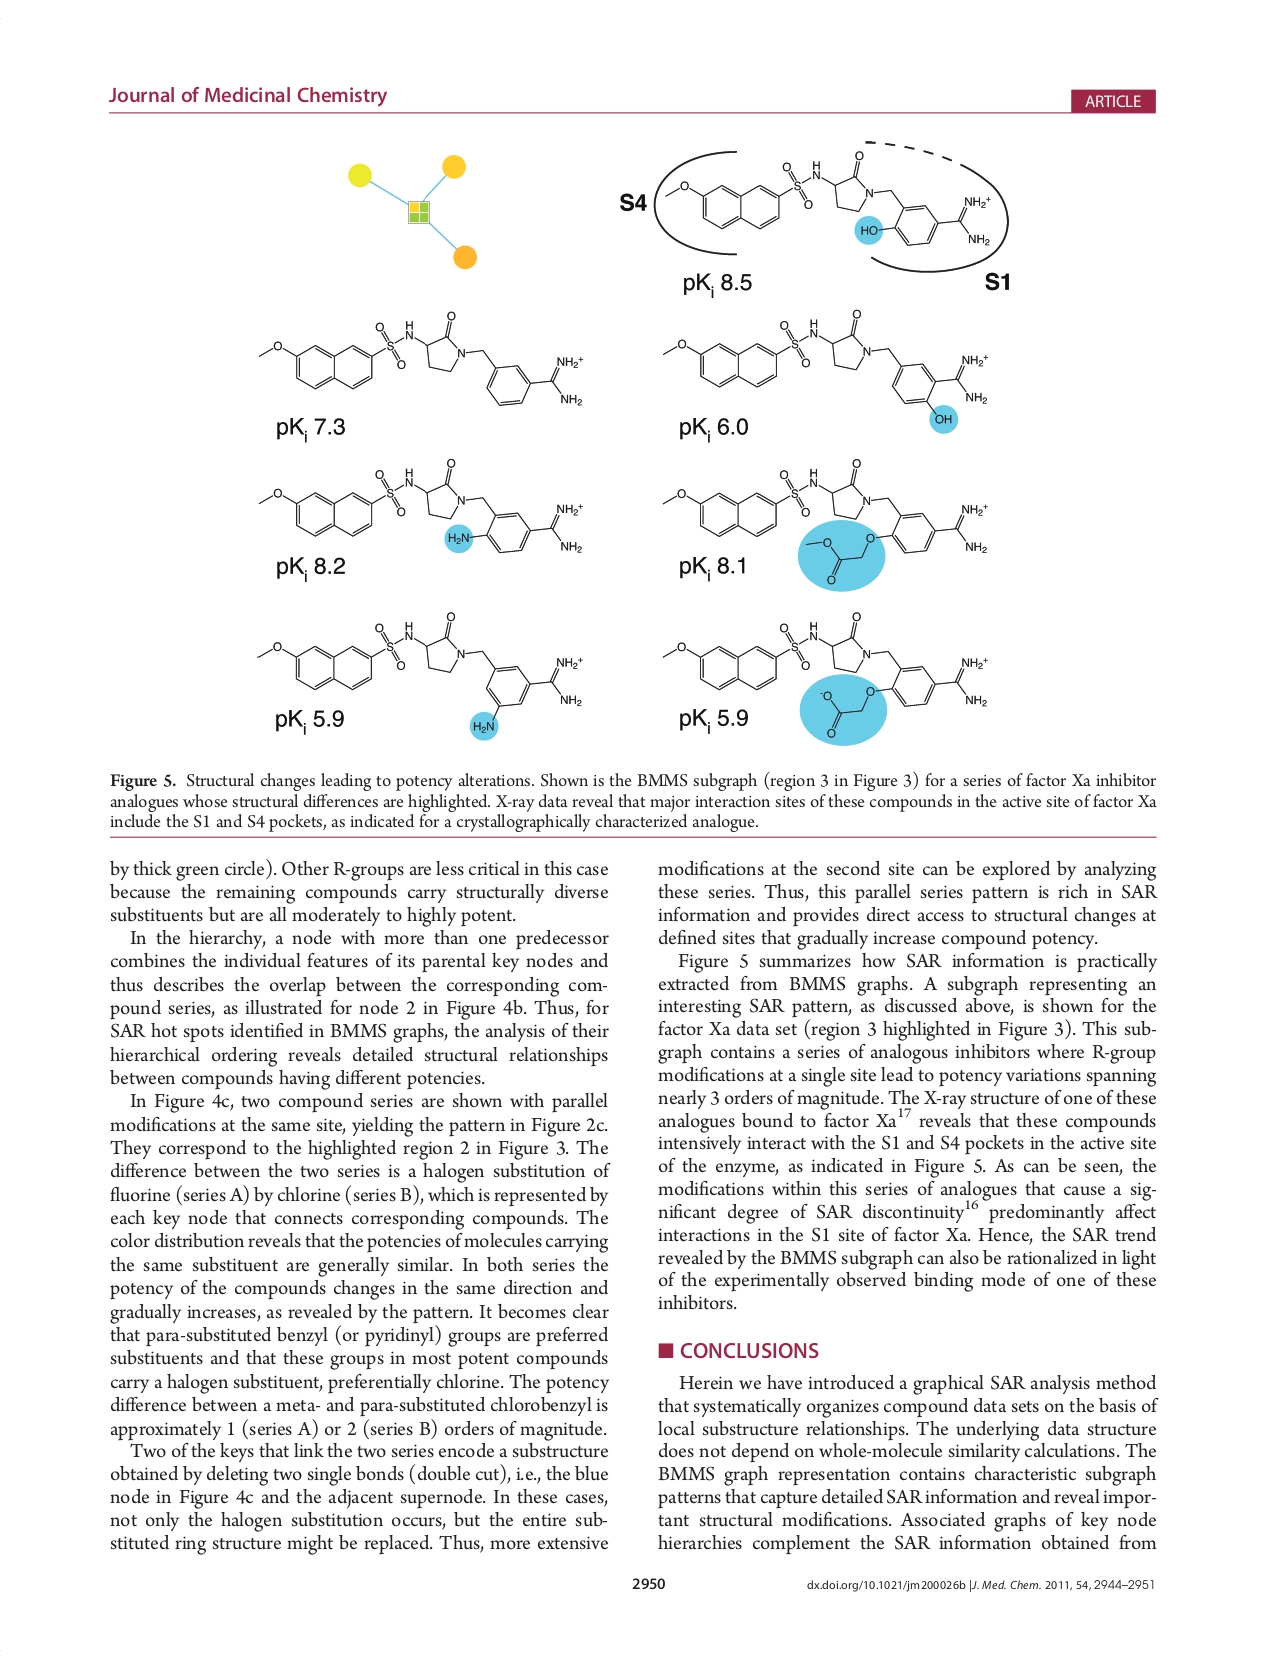exist_molecular: (661, 606, 991, 741), (662, 456, 989, 586), (255, 610, 586, 737), (661, 306, 989, 428), (258, 453, 586, 559), (257, 309, 590, 411), (662, 150, 996, 251)
